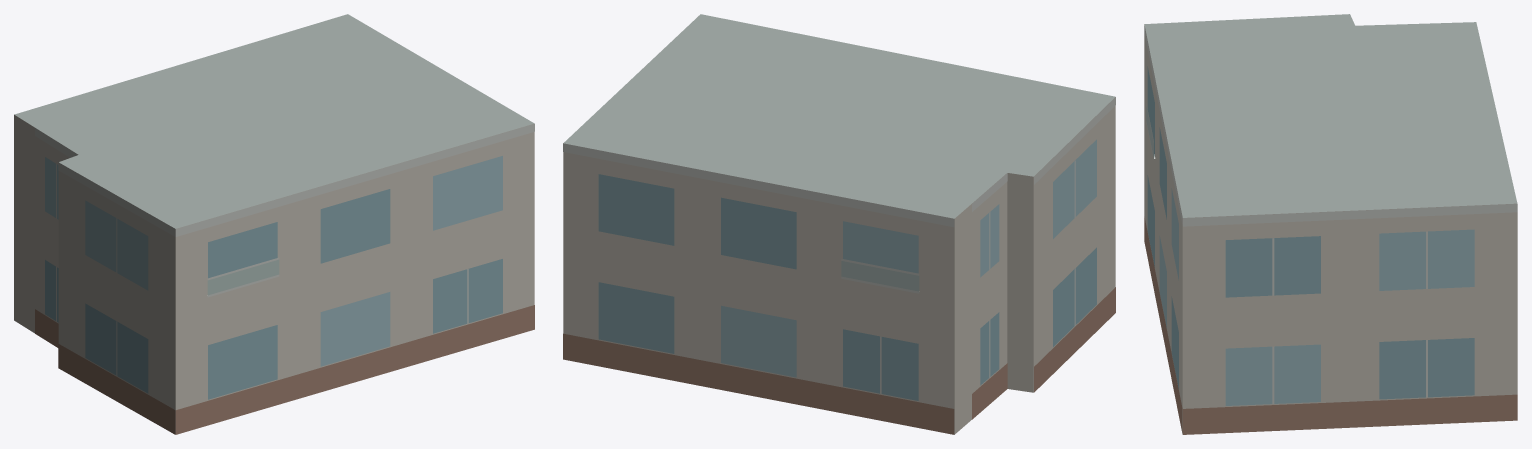
The model's file is survey-upis-32571262.glb.
3 views of the same model, side by side, from view 1: azimuth 30°, elevation 25°; view 2: azimuth 150°, elevation 25°; view 3: azimuth 270°, elevation 25° (orthographic). The views are drawn at different scales.
Visible parts, largest first — view 1: survey-upis-32571262.tmp; view 2: survey-upis-32571262.tmp; view 3: survey-upis-32571262.tmp.
Part boxes in pixels (x1,y1,x2,y2): survey-upis-32571262.tmp: (14, 14, 534, 434); survey-upis-32571262.tmp: (563, 14, 1115, 434); survey-upis-32571262.tmp: (1144, 14, 1517, 434).
Size of the model in its own units: 12.31 by 6.1 by 9.52.
